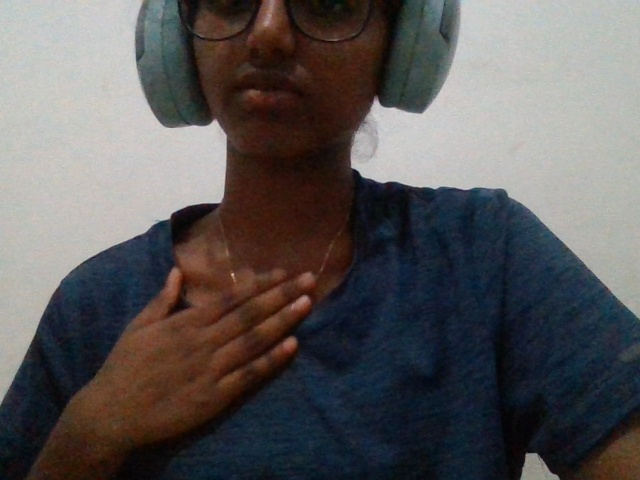Please: (54, 242, 337, 454)
